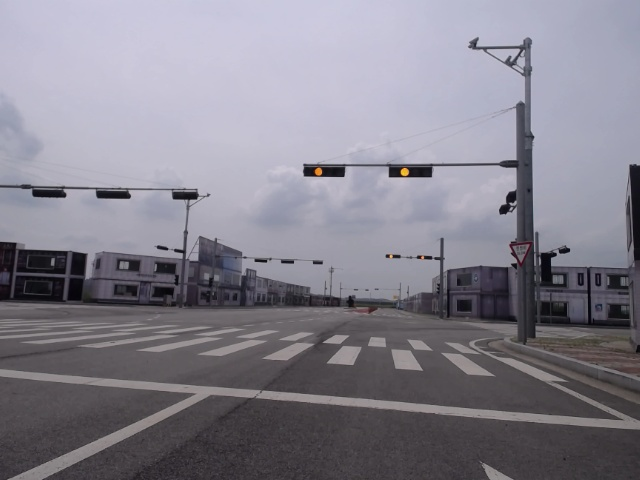orange_4: (386, 163, 433, 178), (303, 163, 347, 177), (415, 253, 433, 260), (385, 254, 403, 259)
